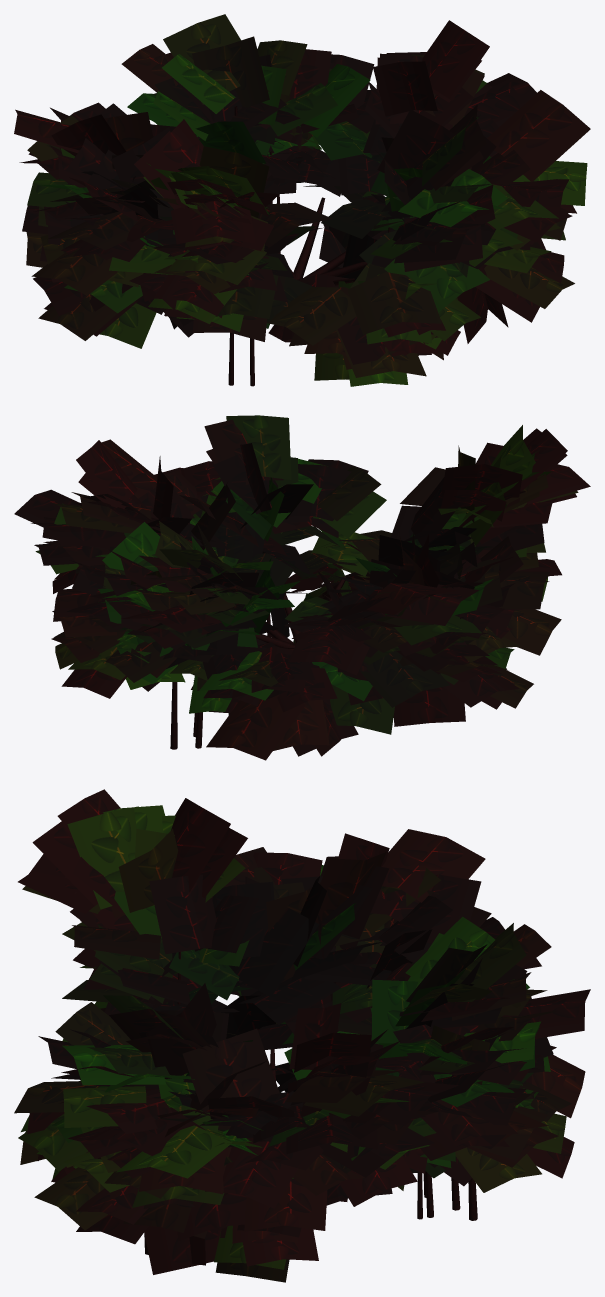
The model's file is veg_banyan2_far.glb.
3 views of the same model, one above another, from view 1: azimuth 30°, elevation 25°; view 2: azimuth 150°, elevation 25°; view 3: azimuth 270°, elevation 25° (orthographic). The views are drawn at different scales.
Visible parts, largest first — view 1: banyan_2; view 2: banyan_2; view 3: banyan_2.
Boxes of the visible parts, left/top/right/bottom form: banyan_2: left=14, top=14, right=590, bottom=386; banyan_2: left=14, top=415, right=590, bottom=760; banyan_2: left=14, top=789, right=590, bottom=1282.
Size of the model in its own units: 36.14 by 18.13 by 30.77.
Materials: 2 (2 with a texture image).
